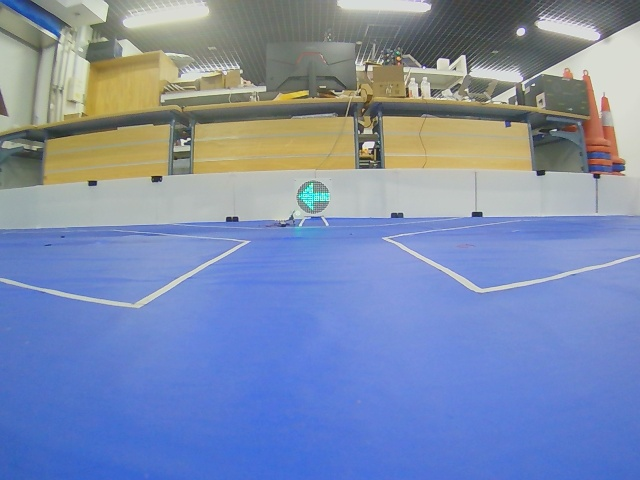left_green: (297, 180, 331, 214)
